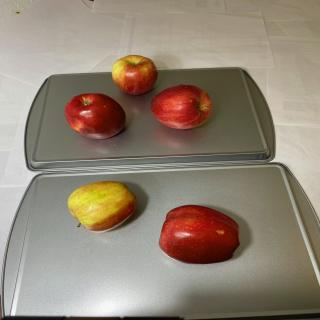Apple: (159, 204, 240, 264), (67, 180, 137, 233), (64, 93, 126, 139), (150, 84, 212, 130), (111, 54, 158, 96)
